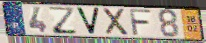4: (28, 6, 49, 34)
8: (157, 8, 181, 39)
F: (128, 8, 154, 37)
V: (74, 6, 102, 36)
X: (102, 7, 131, 37)
Z: (47, 6, 79, 36)
